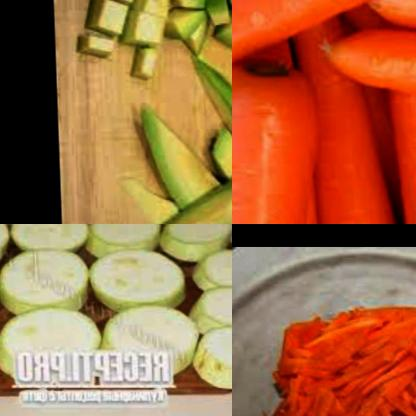avocado: (92, 62, 232, 224), (61, 0, 232, 88)
carrot: (232, 0, 416, 224), (253, 288, 416, 416)
vegetable marrow: (0, 299, 95, 387), (98, 304, 193, 384), (83, 240, 182, 315), (0, 237, 92, 315), (186, 323, 232, 392), (71, 224, 161, 257), (180, 280, 232, 332), (160, 224, 232, 260), (181, 236, 232, 285), (0, 224, 90, 250)
